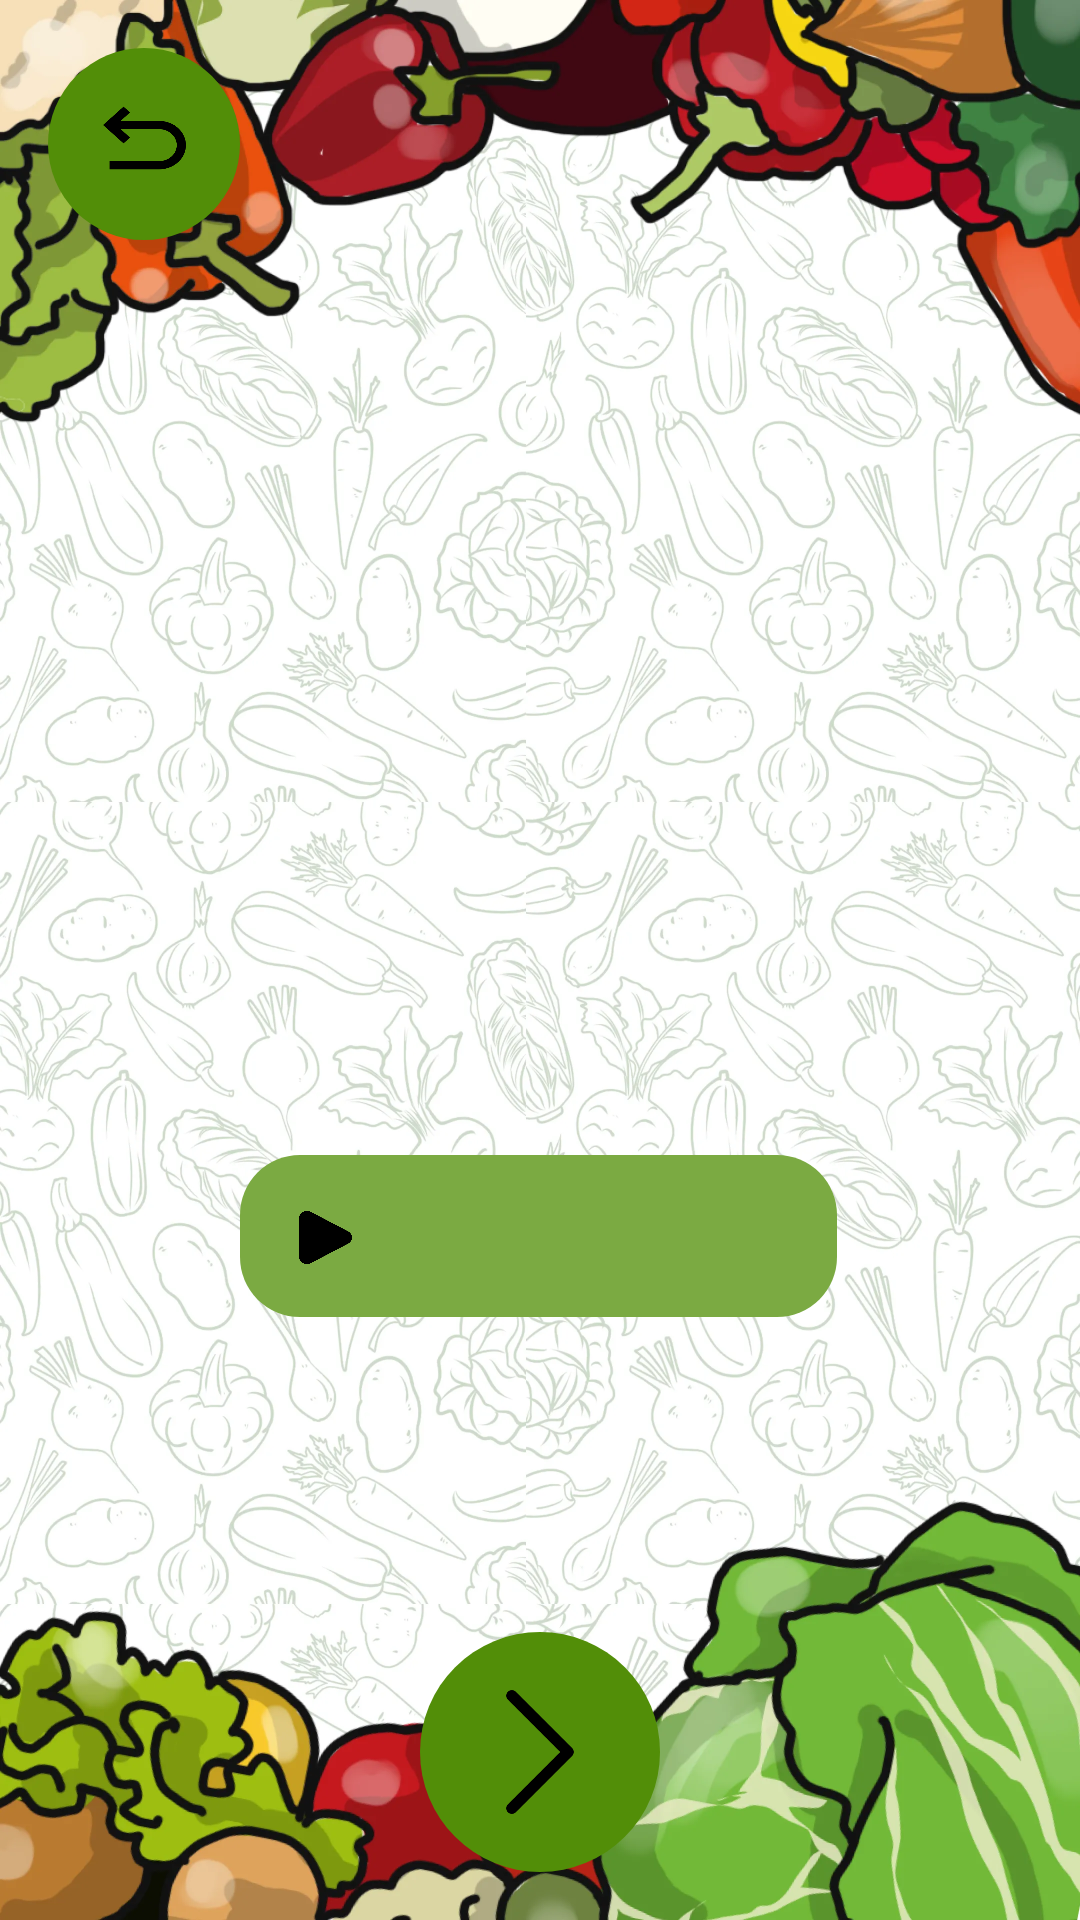

Icons on this 1080x1920 Android screen, each with the point to tap as [x,y]:
Next: [540,1752]
Play Audio: [325,1237]
turn left: [144,138]
